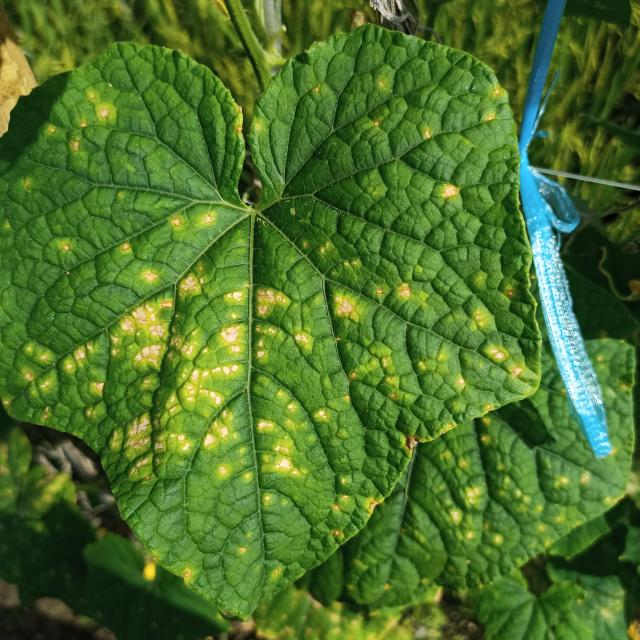disease_cucumber: (20, 67, 538, 564)
